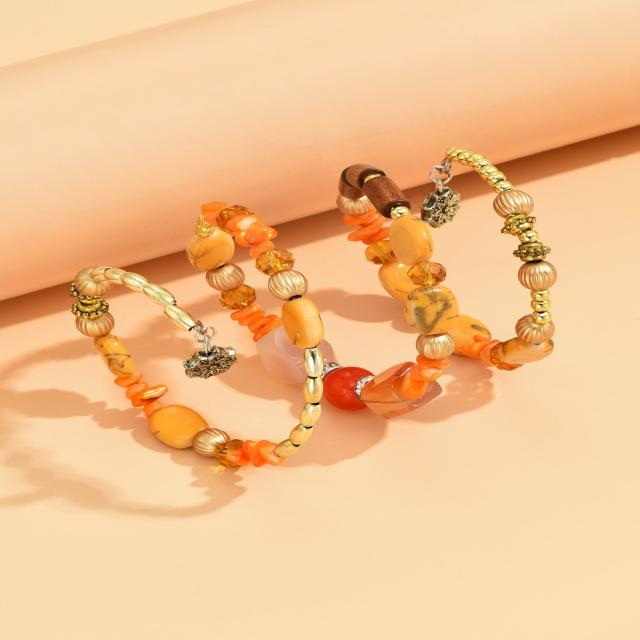bracelet: (54, 70, 640, 518)
